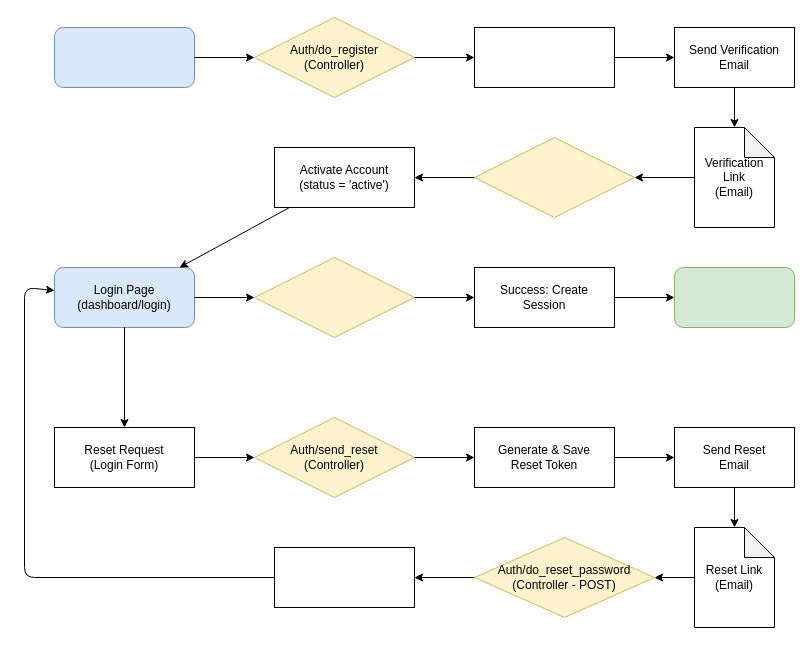
Some shapes in this 812 by 645 pixel diagram are drawn without their labels. The shapes that lost their labels are listed below. From the top down, each one's box as (x1, y1, x2, y2) in pixels, then its label:
(54, 26, 194, 88): Registration Page (dashboard/register)
(474, 26, 614, 88): Save User (pending) & Profile
(474, 136, 634, 218): Auth/verify_email (Controller)
(254, 256, 414, 338): Auth/do_login (Controller)
(674, 266, 794, 328): Dashboard (main)
(274, 546, 414, 608): Update Password & Clear Token
